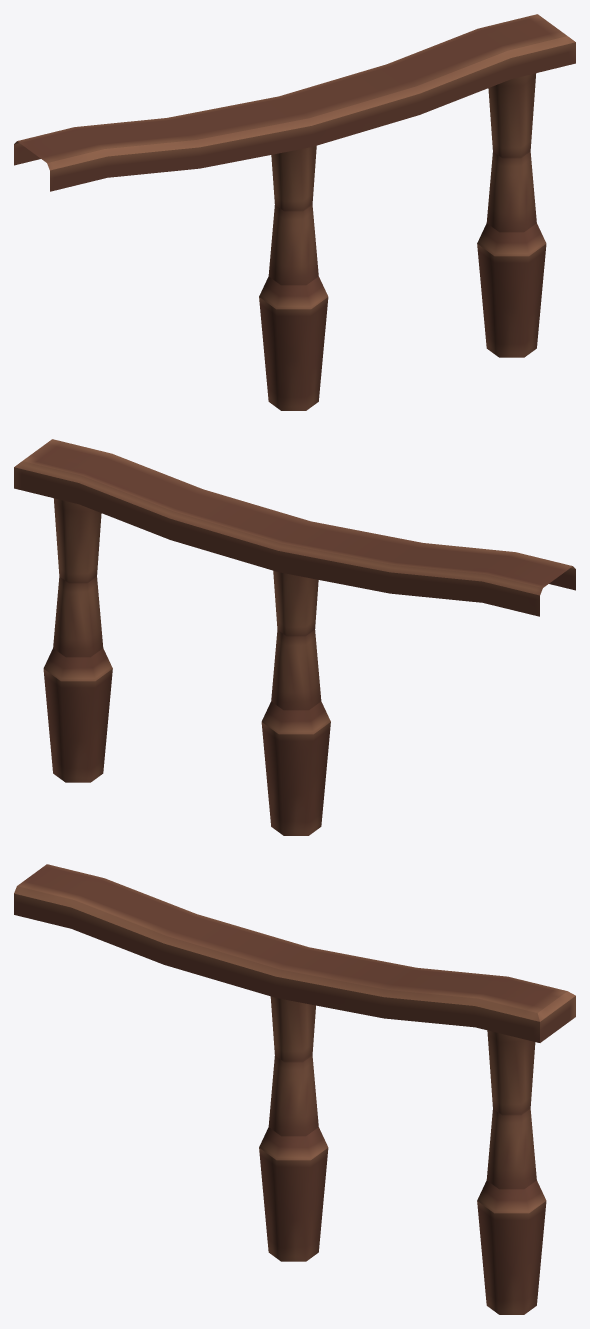
Rendered from TileSet11_Handrail.fbx.
The picture shows the model from 3 angles, top to bottom: view 1: azimuth 30°, elevation 25°; view 2: azimuth 150°, elevation 25°; view 3: azimuth 330°, elevation 25°; orthographic projection.
Parts seen in each view (by area): view 1: Interior_Navio:polySurface98; view 2: Interior_Navio:polySurface98; view 3: Interior_Navio:polySurface98.
Boxes of the visible parts, bbox=[...] form: Interior_Navio:polySurface98: bbox=[14, 14, 575, 410]; Interior_Navio:polySurface98: bbox=[14, 439, 575, 835]; Interior_Navio:polySurface98: bbox=[14, 864, 575, 1314].
Bounding box in the file's own units: 1.84 × 1.05 × 0.217.
1 material, 1 textured.
